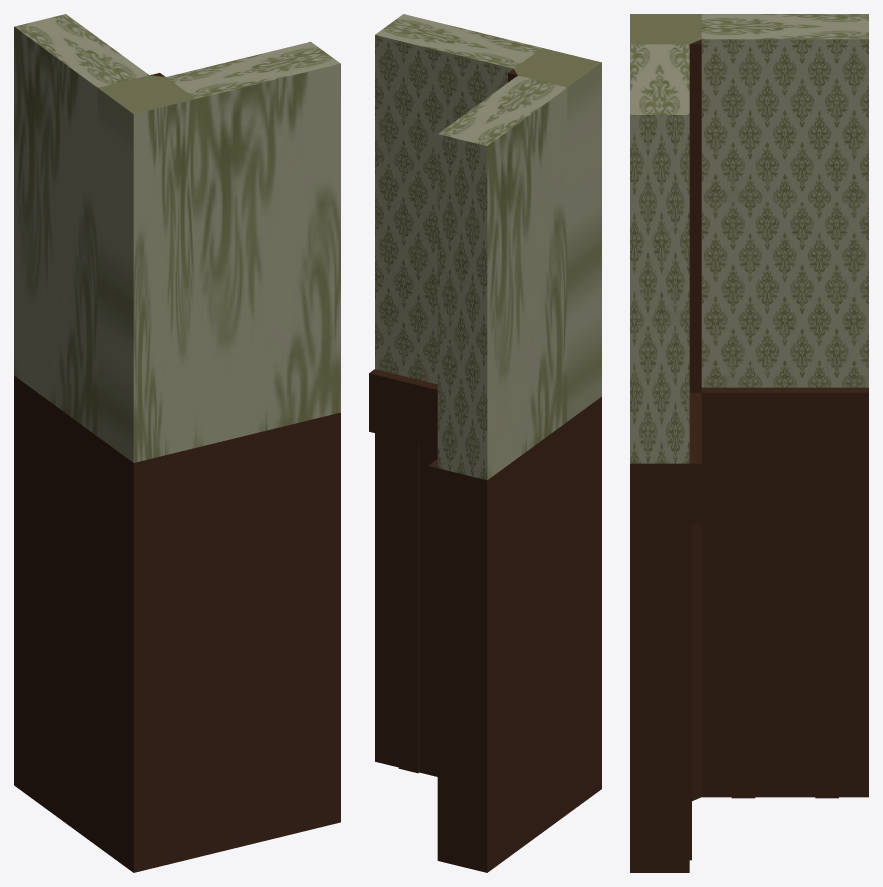
Rendered from Kitchen Wall 3 Curve.fbx.
3 views of the same model, side by side, from view 1: azimuth 30°, elevation 25°; view 2: azimuth 150°, elevation 25°; view 3: azimuth 270°, elevation 25° (orthographic). The views are drawn at different scales.
Visible parts, largest first — view 1: Cube.031; view 2: Cube.031; view 3: Cube.031.
Part boxes in pixels (x1,y1,x2,y2): Cube.031: [14, 14, 340, 872]; Cube.031: [369, 14, 601, 872]; Cube.031: [630, 14, 868, 872].
Size of the model in its own units: 200 by 700 by 200.
